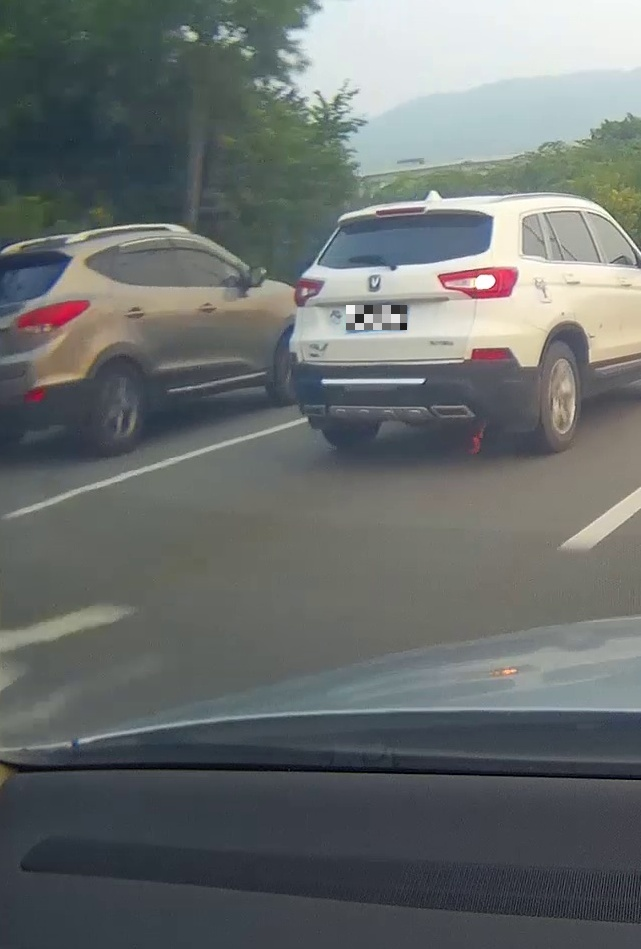L_light: (292, 277, 325, 308)
R_light: (437, 265, 520, 299)
T_light: (376, 206, 426, 216)
day-right: (288, 198, 524, 447)
plate_1: (346, 305, 407, 330)
